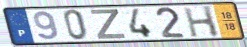0: (62, 8, 91, 42)
2: (156, 6, 186, 39)
4: (129, 7, 154, 39)
9: (32, 10, 61, 42)
H: (182, 5, 222, 38)
Z: (89, 8, 128, 40)
